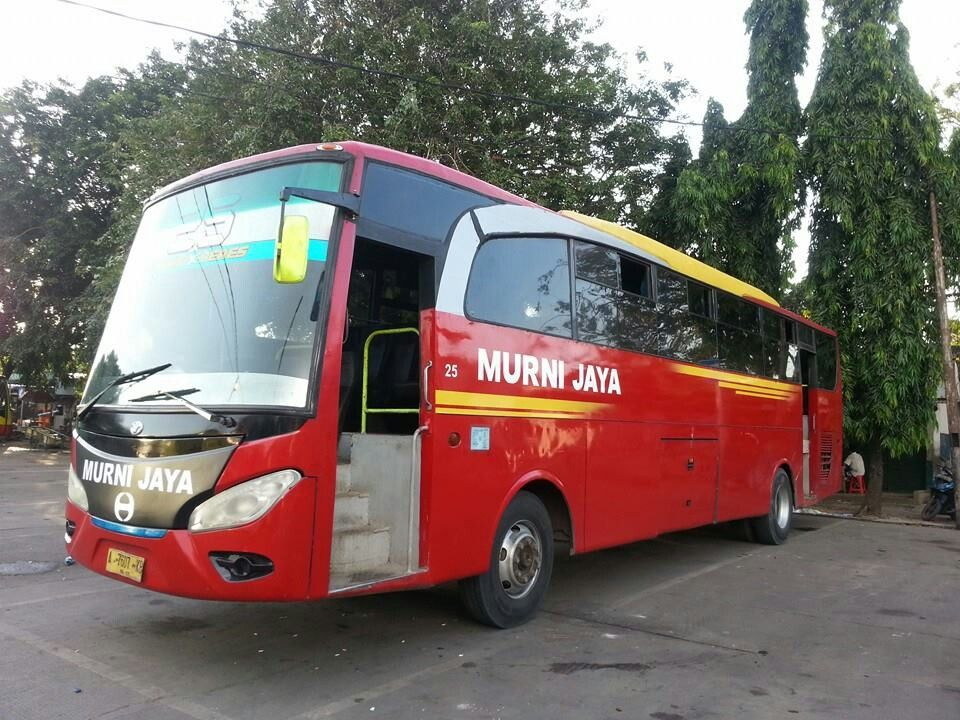plate: (105, 550, 145, 581)
